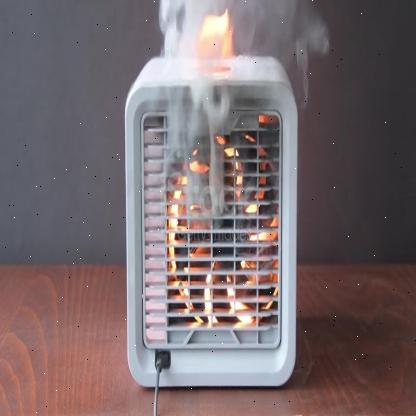smoke: (159, 0, 334, 219)
